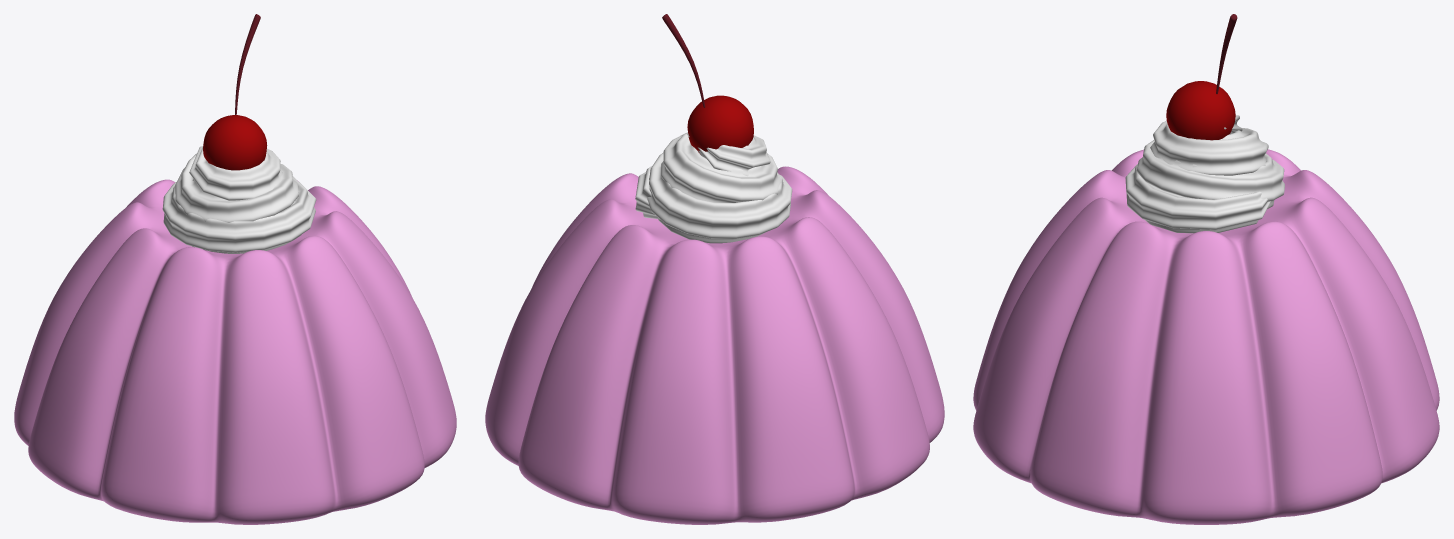
Rendered from Jelly.fbx.
3 renders of one model, left to right at view 1: azimuth 30°, elevation 25°; view 2: azimuth 150°, elevation 25°; view 3: azimuth 270°, elevation 25°, orthographic. The views are drawn at different scales.
Visible parts, largest first — view 1: 圓柱體.001, Nurbs路徑.001, Sphere.001; view 2: 圓柱體.001, Nurbs路徑.001, Sphere.001; view 3: 圓柱體.001, Nurbs路徑.001, Sphere.001.
Part boxes in pixels (x1,y1,x2,y2): 圓柱體.001: (14, 179, 456, 524); Nurbs路徑.001: (162, 146, 316, 253); Sphere.001: (203, 115, 267, 170); 圓柱體.001: (485, 166, 944, 524); Nurbs路徑.001: (635, 132, 792, 243); Sphere.001: (687, 95, 753, 154); 圓柱體.001: (973, 149, 1439, 524); Nurbs路徑.001: (1125, 115, 1284, 233); Sphere.001: (1166, 81, 1235, 140).
Bounding box in the file's own units: 40.37 × 41.45 × 39.64.
